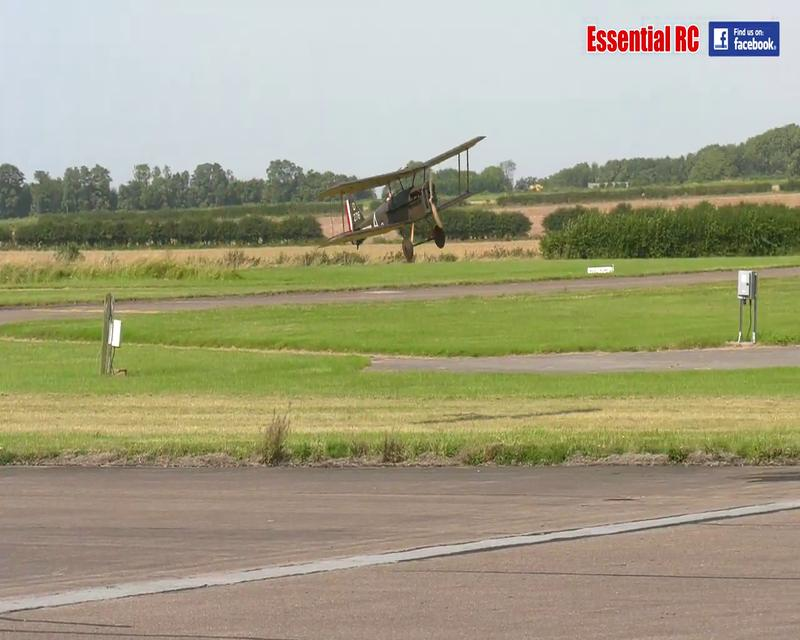UAV: (316, 136, 488, 263), (585, 23, 700, 53)
